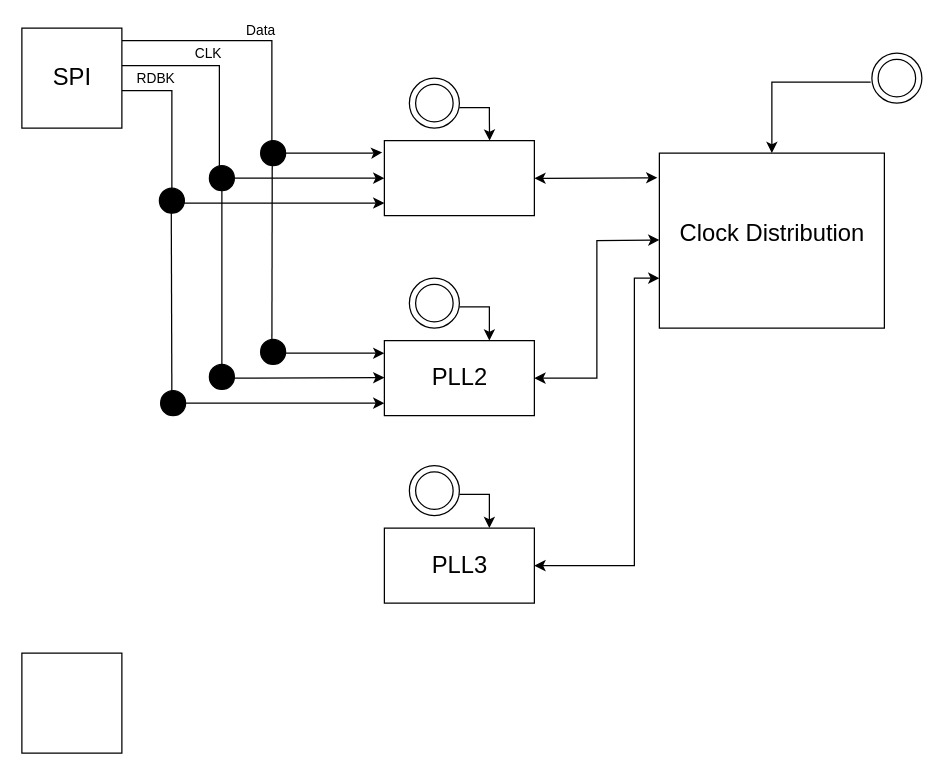
Some shapes in this 944 by 775 pixel diagram are drawn without their labels. The shapes that lost their labels are listed below. From the top down, each one's centre as x and y in pixels, then its label:
the point at 458,177: PLL1
the point at 71,702: 4WI
